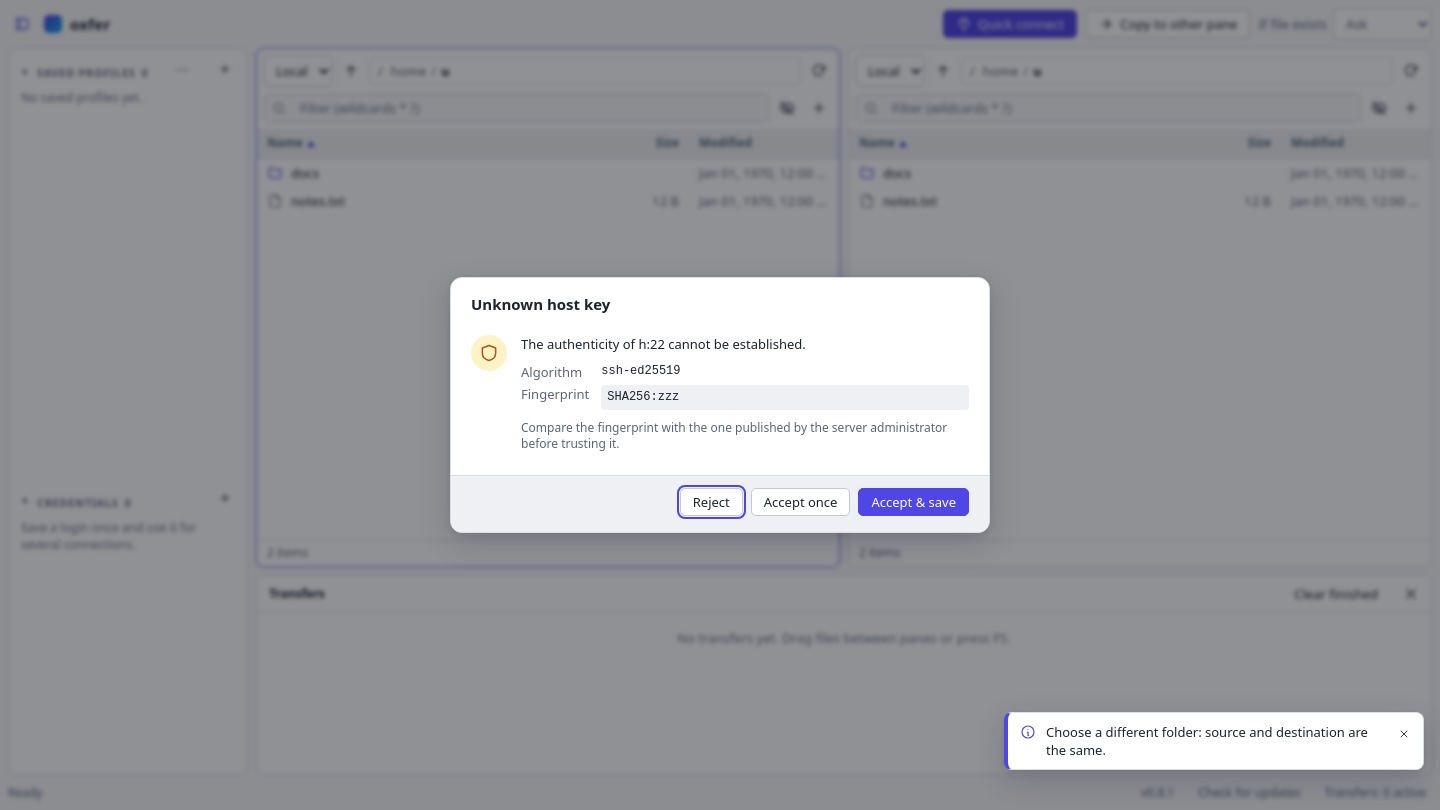
Test: App (smoke) › shows host key prompts from the backend
The width and height of the screenshot is (1440, 810).
Expected: the text "SHA256:zzz" is shown, 601,385 -> 969,410
What coordinates should you click on to do the following:
click the button "Accept once"
I would click on:
 (801, 502)
Its box is 751,488 -> 850,516.
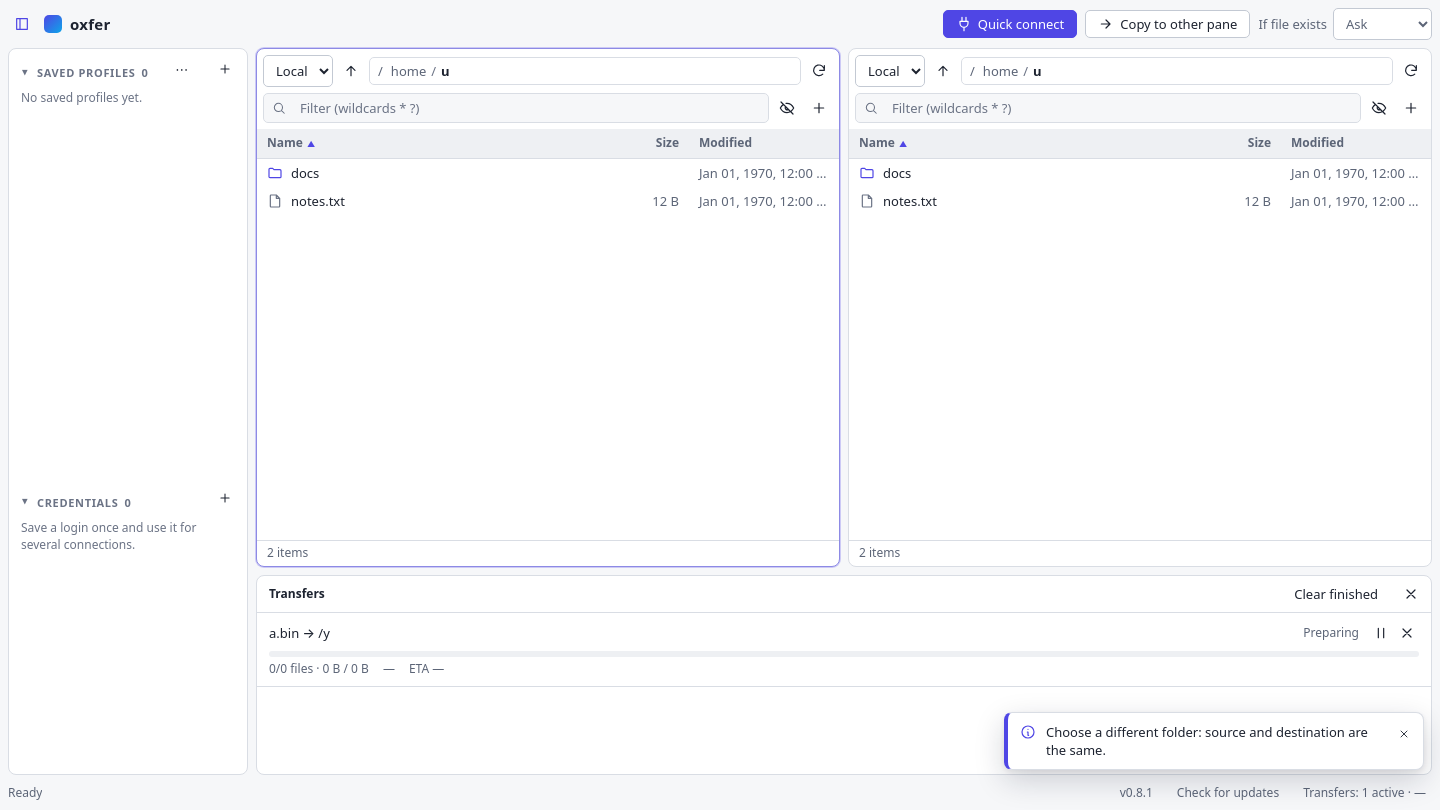
Expected: the text "a.bin → /y" is shown, 269,624 -> 330,642
